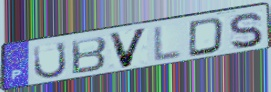B: (70, 36, 109, 77)
D: (187, 16, 227, 59)
L: (151, 24, 184, 65)
S: (227, 11, 265, 51)
U: (32, 40, 69, 81)
V: (107, 26, 150, 70)
